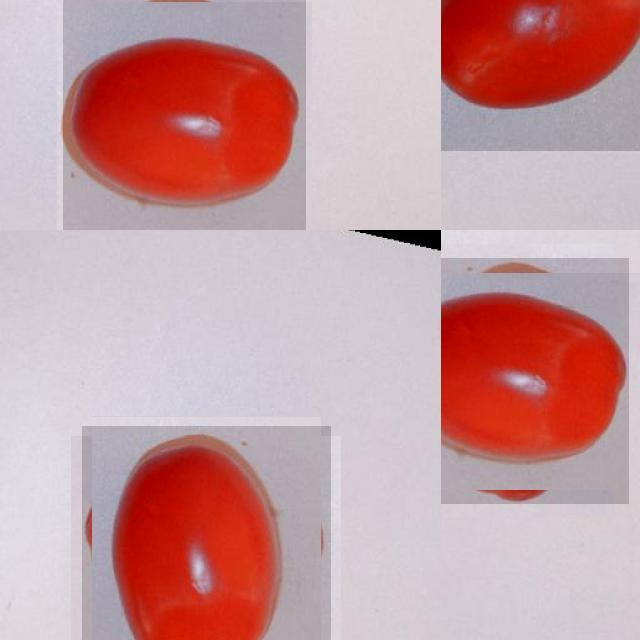Fresh Tomato: (62, 0, 306, 230), (81, 425, 331, 640), (441, 258, 629, 504), (441, 0, 640, 151)
